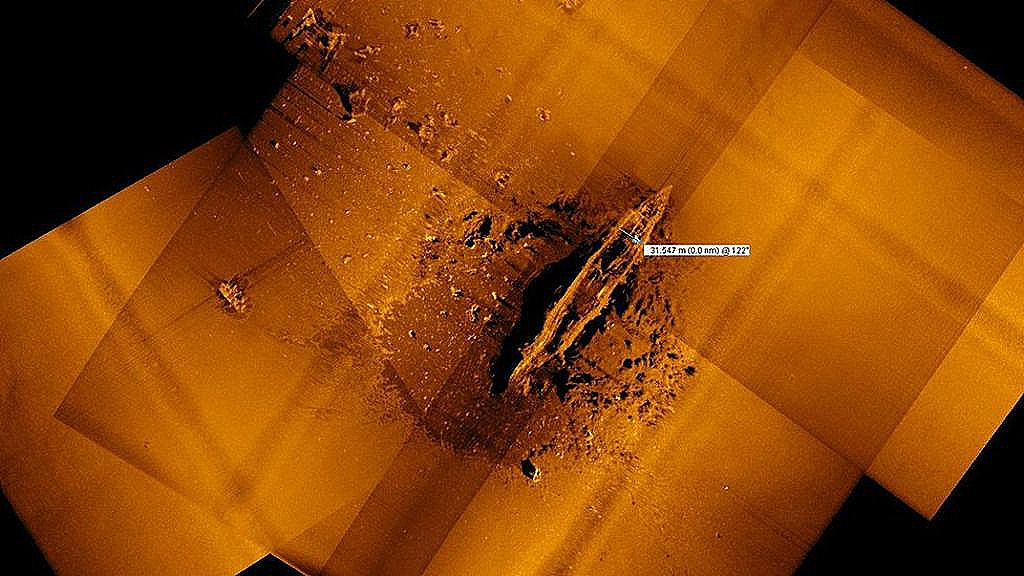ship: (504, 181, 677, 396)
